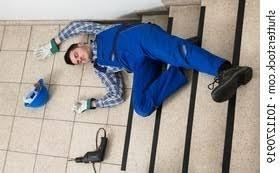fall: (52, 2, 230, 140)
